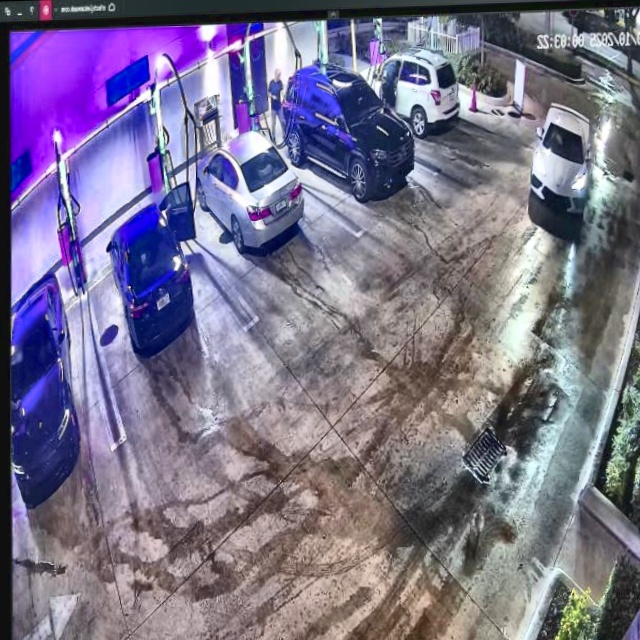Car: (277, 63, 416, 203), (102, 179, 199, 348), (192, 130, 306, 251)
